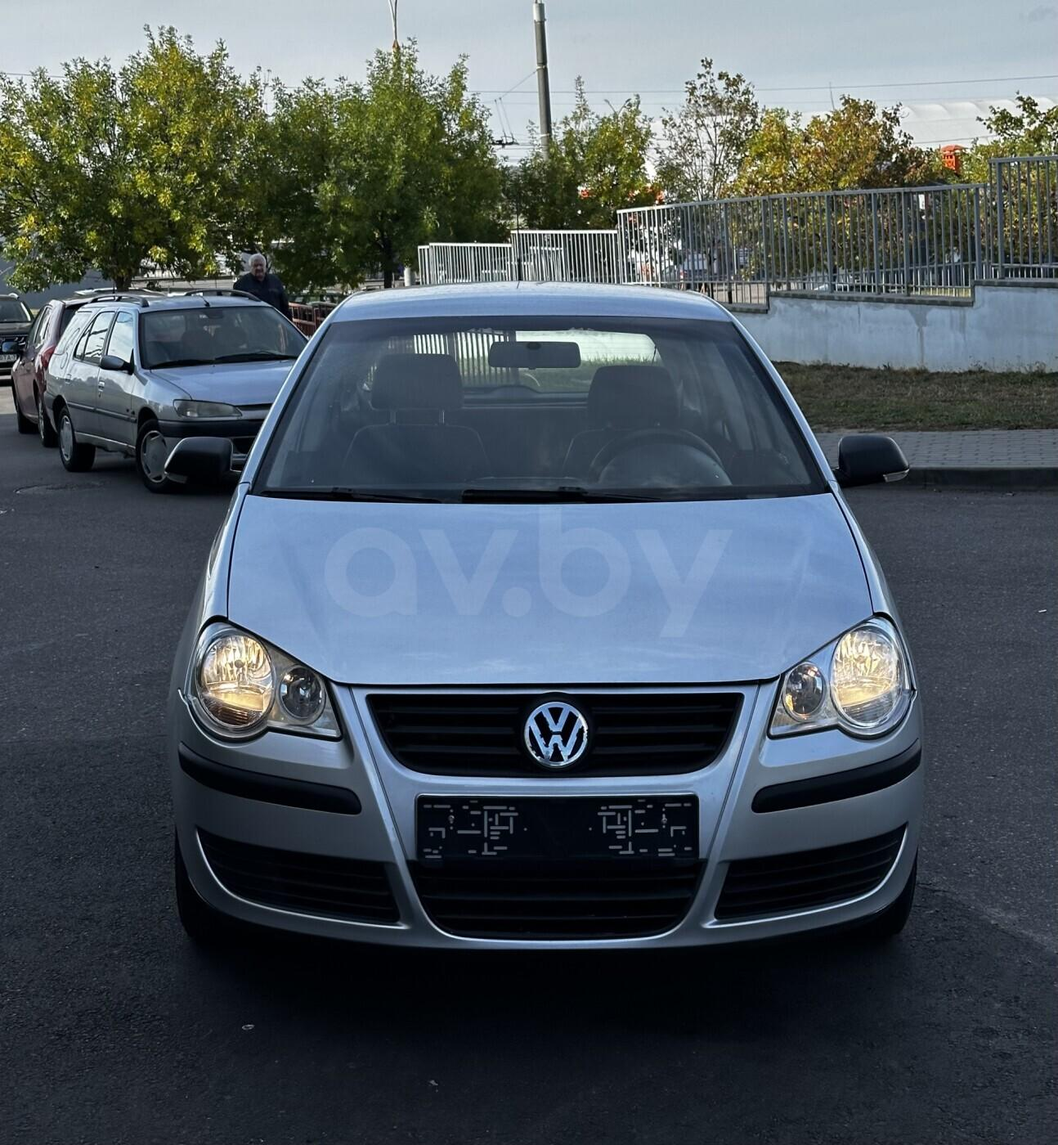Polo_2005-2009: (174, 272, 938, 1014)
